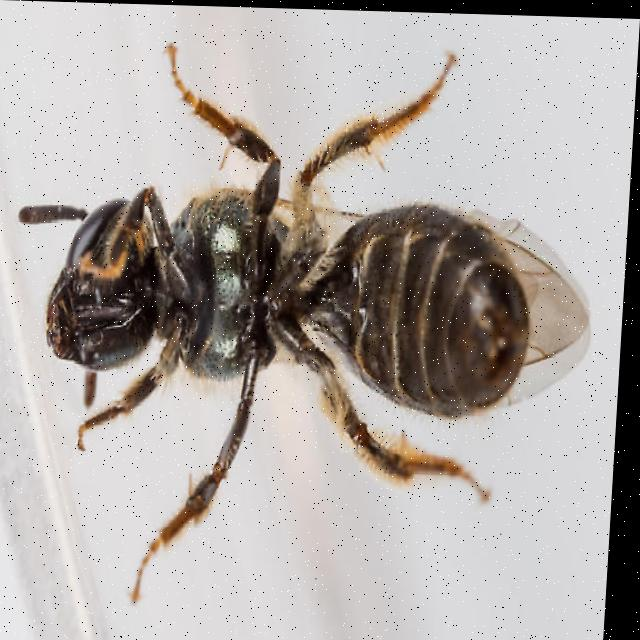Lasioglossum: (0, 44, 578, 592)
